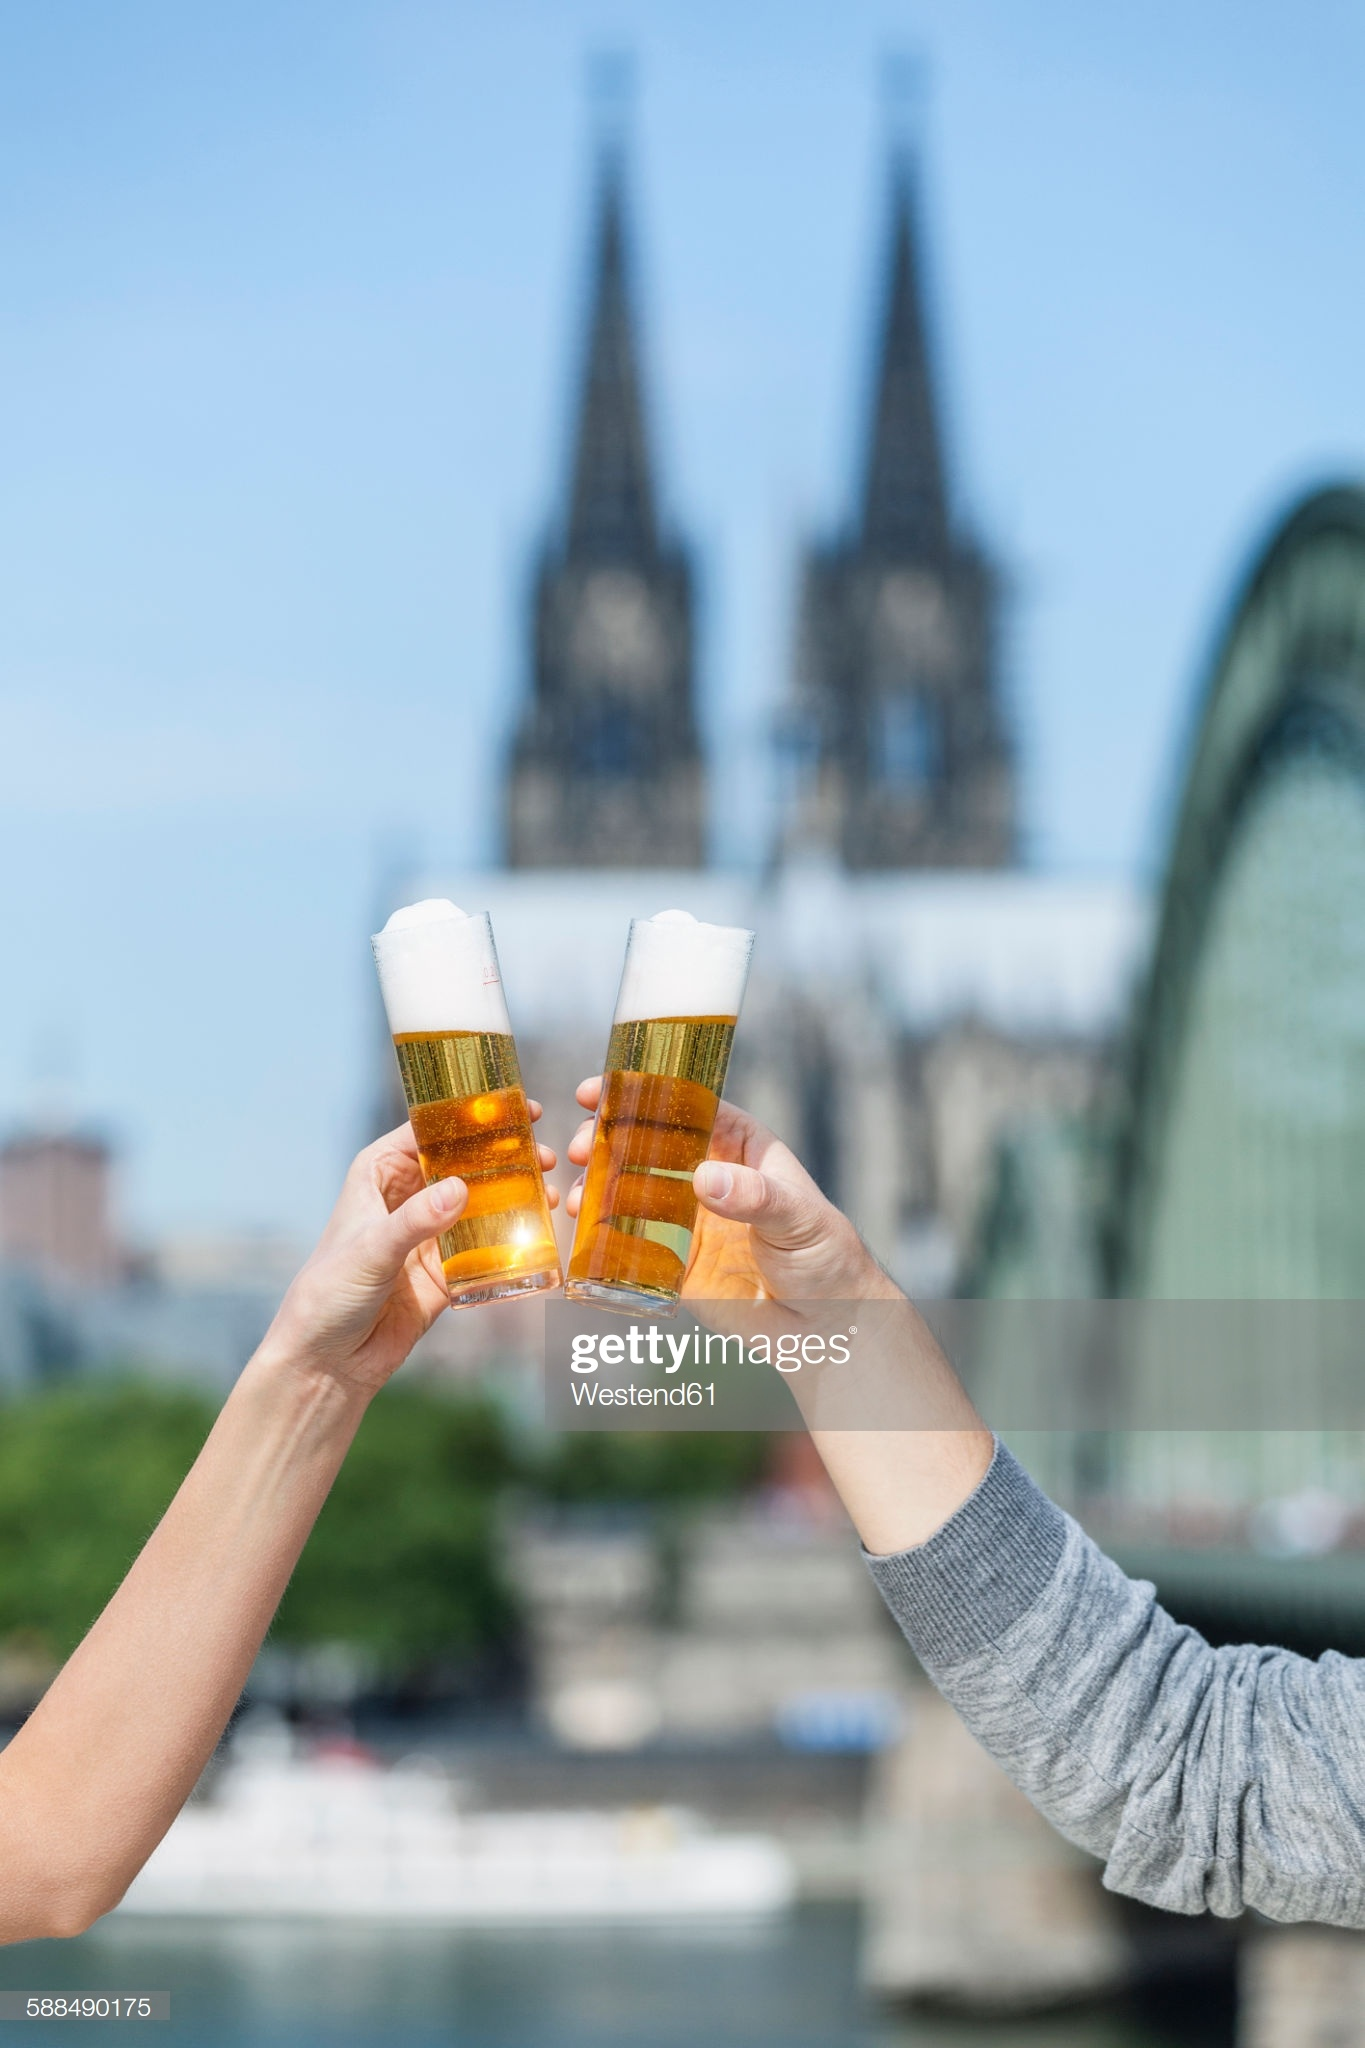glassBeer: (358, 908, 561, 1297), (574, 901, 750, 1308)
